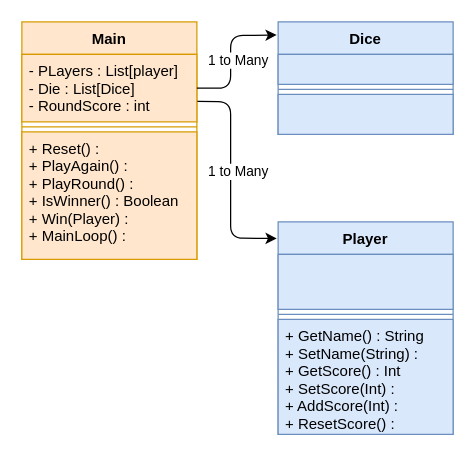
This 475x460 diagram has some shape labels left out. Each missing label, with the centre of its shape:
"+ Roll() : Random int" belongs at point 365,113.
"- Score : int - Name : string" belongs at point 365,281.
"- Sides : int" belongs at point 365,68.
